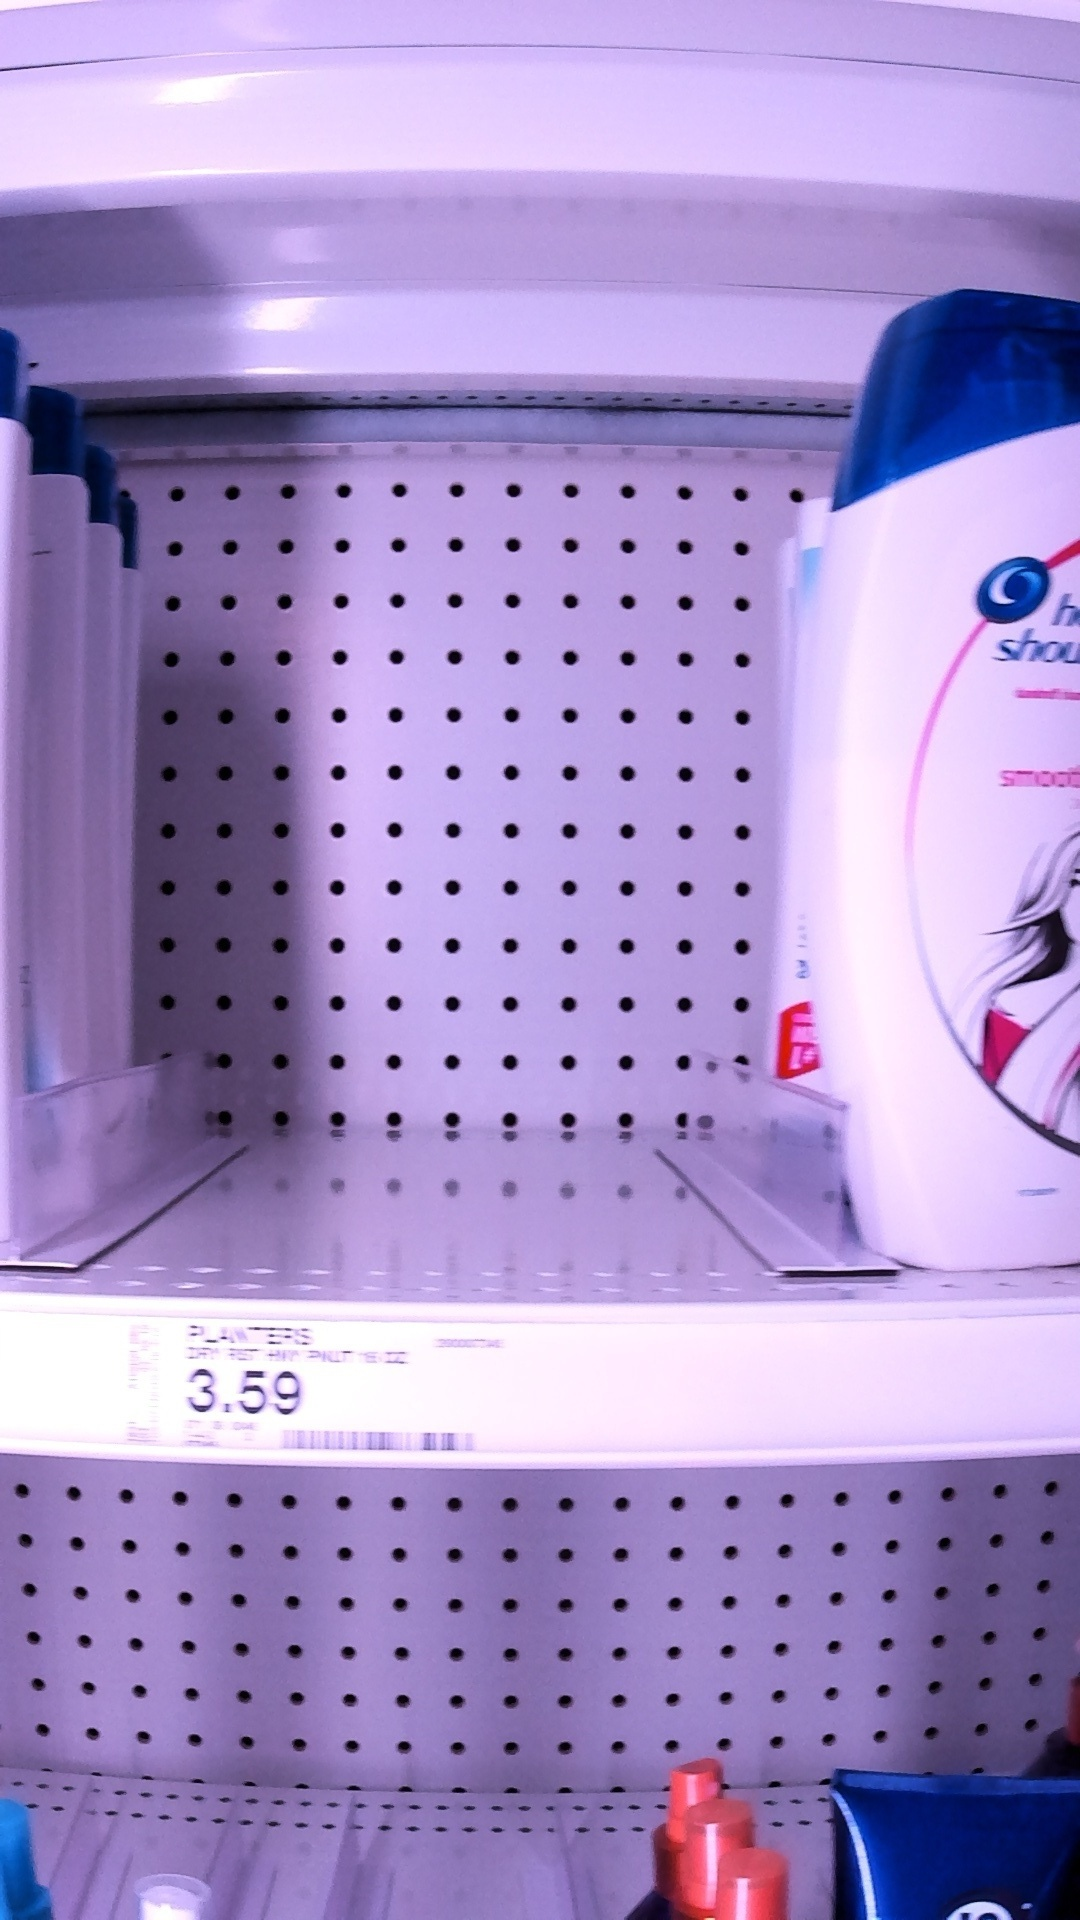ptag: (113, 1298, 513, 1476)
